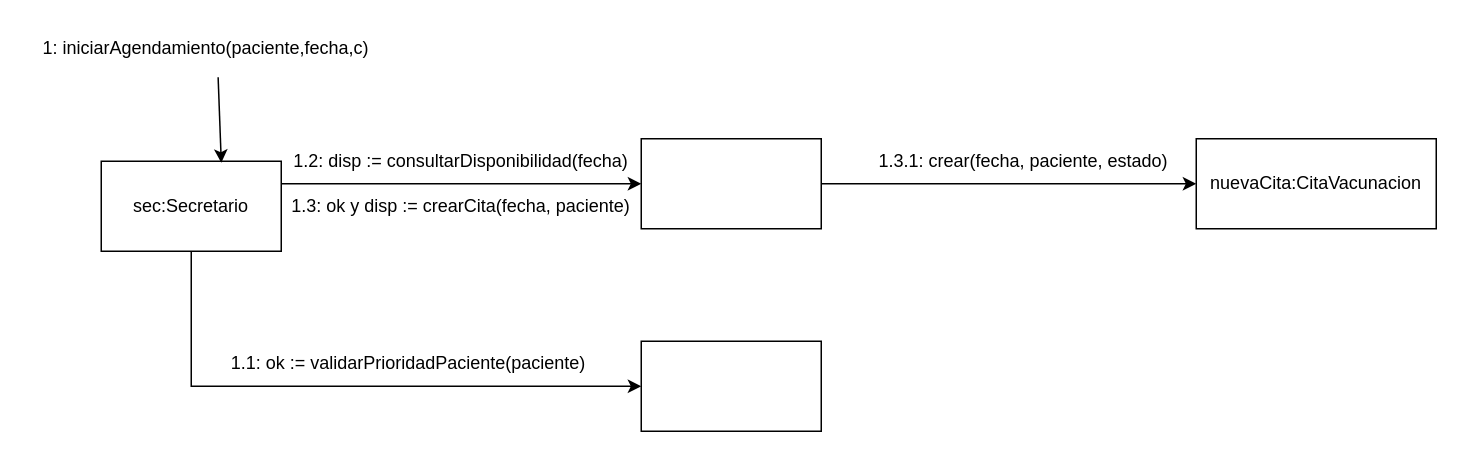
The diagram is 1463 pixels wide and 458 high, and some of its shapes have lost their labels. Here are the shapes that lost their labels. From the top down, the box of each, then its label:
(640, 137, 821, 229): c:CentroVacunacion
(640, 340, 821, 431): t:TramoCampaña
